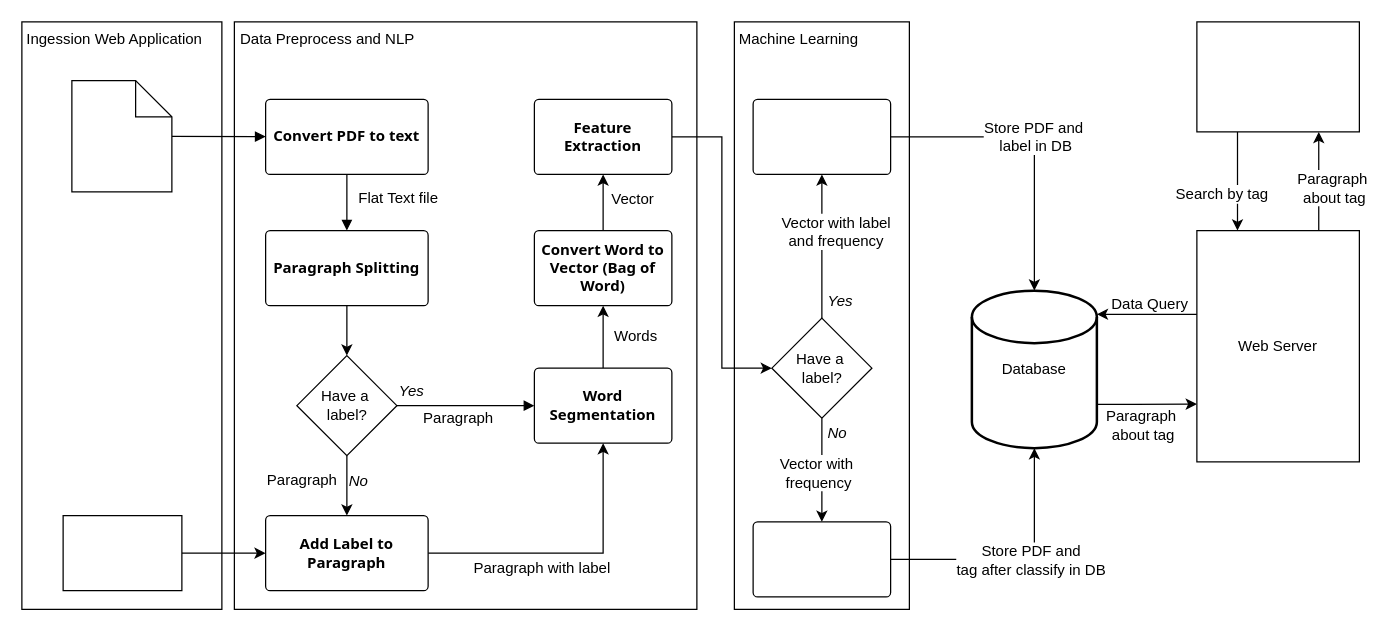
Some shapes in this 1393 by 631 pixel diagram are drawn without their labels. The shapes that lost their labels are listed below. From the top down, each one's box as (x1, y1, x2, y2) in pixels, then its label:
(1196, 21, 1359, 132): Web Application
(71, 79, 172, 192): PDF File
(752, 98, 891, 174): Classification: Train Model
(62, 514, 182, 591): Label in the Paragraph from Expert
(752, 521, 891, 597): Classification: Classifer
